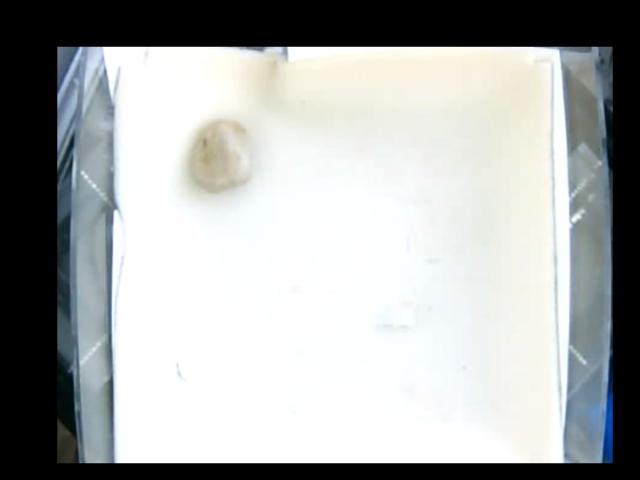Pebble: (189, 118, 253, 188)
